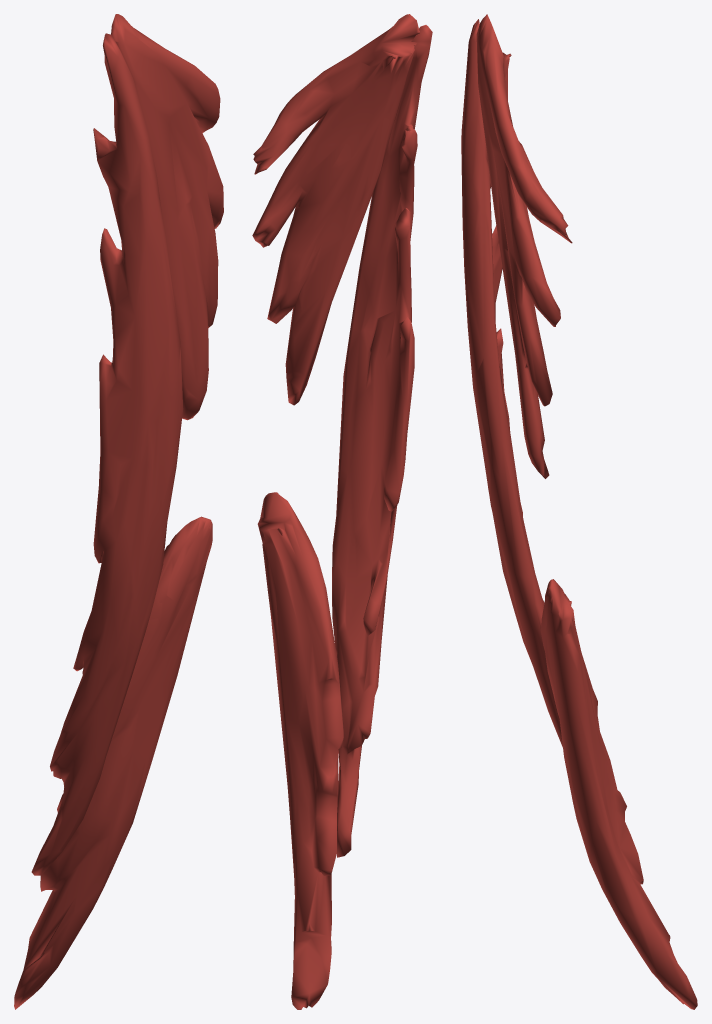
File: musculos-longus-colli-muscle-l.glb
3 renders of one model, left to right at view 1: azimuth 30°, elevation 25°; view 2: azimuth 150°, elevation 25°; view 3: azimuth 270°, elevation 25°, orthographic. The views are drawn at different scales.
Parts seen in each view (by area): view 1: Longus colli muscle.l; view 2: Longus colli muscle.l; view 3: Longus colli muscle.l.
Boxes of the visible parts, x1,y1,x2,y2 form: Longus colli muscle.l: (14, 14, 223, 1009); Longus colli muscle.l: (252, 14, 432, 1009); Longus colli muscle.l: (461, 14, 697, 1009).
Bounding box in the file's own units: 0.0248 × 0.1574 × 0.0341.
